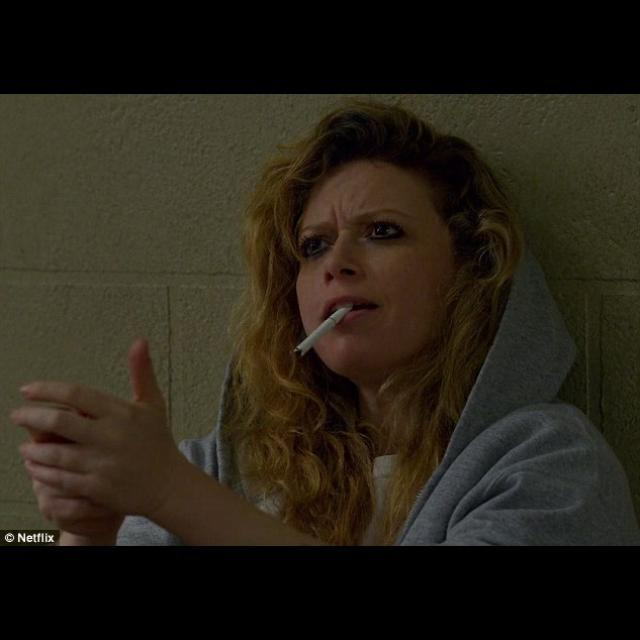rokok: (287, 305, 357, 357)
